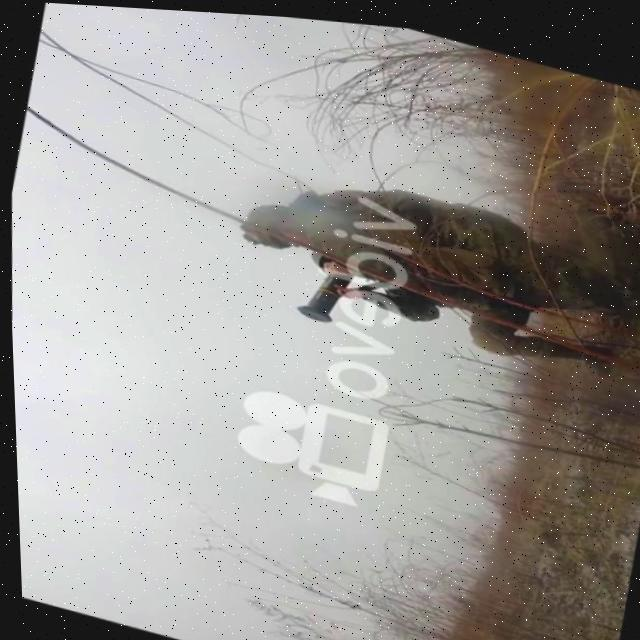rocket: (293, 252, 359, 325)
